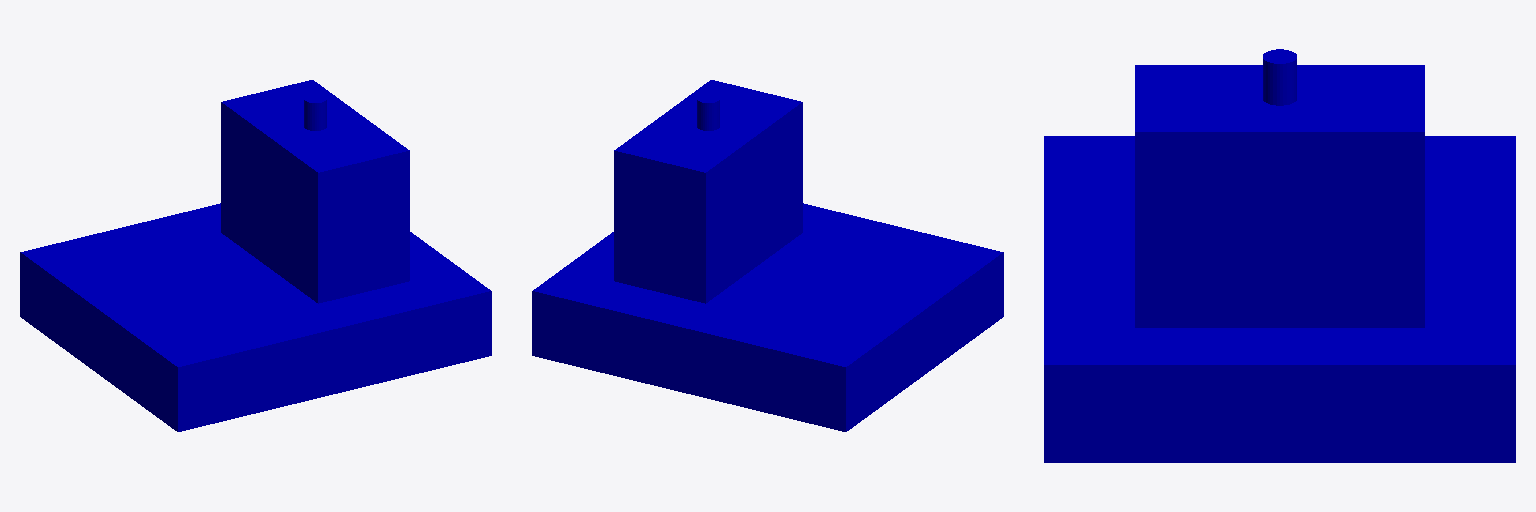
URDF robot description (Tracer):
<?xml version="1.0"?>
<robot name="Tracer">

  <material name="blue">
    <color rgba="0 0 0.8 1"/>
  </material>

  <link name="base_link">
    <inertial>
      <origin xyz="0 0 0.0995" rpy="0 0 0"/>
      <mass value="10"/>
      <inertia ixx="0.326184" ixy="0" ixz="0" iyy="0.426771" iyz="0" izz="0.720753"/>
    </inertial>
    <visual>
      <geometry>
        <box size="0.702 0.61 0.139"/>
      </geometry>
      <origin rpy="0 0 0" xyz="0 0 0.0995"/>
      <material name="blue"/>
    </visual>
    <collision>
      <geometry>
        <box size="0.702 0.61 0.139"/>
      </geometry>
      <origin rpy="0 0 0" xyz="0 0 0.0995"/>
    </collision>
  </link>

  <link name="right_wheel">
    <inertial>
      <origin xyz="0 0 0" rpy="0 1.57075 1.57075"/>
      <mass value="0.5"/>
      <inertia ixx="0.000379" ixy="0" ixz="0" iyy="0.000379" iyz="0" izz="0.000625"/>
    </inertial>
    <visual>
      <geometry>
        <cylinder length="0.04" radius="0.05"/>
      </geometry>
      <origin rpy="0 1.57075 1.57075" xyz="0 0 0"/>
      <material name="blue"/>
    </visual>
    <collision>
      <geometry>
        <cylinder length="0.04" radius="0.05"/>
      </geometry>
      <origin rpy="0 1.57075 1.57075" xyz="0 0 0"/>
    </collision>
  </link>

  <joint name="base_to_right_wheel" type="continuous">
    <parent link="base_link"/>
    <child link="right_wheel"/>
    <axis xyz="0 1 0"/>
    <origin xyz="0 -0.22 0.05"/>
  </joint>

  <link name="fr_caster_wheel">
    <inertial>
      <origin xyz="0 0 0" rpy="0 1.57075 1.57075"/>
      <mass value="0.2"/>
      <inertia ixx="0.00004625" ixy="0" ixz="0" iyy="0.00004625" iyz="0" izz="0.0000625"/>
    </inertial>
    <visual>
      <geometry>
        <cylinder length="0.03" radius="0.025"/>
      </geometry>
      <origin rpy="0 1.57075 1.57075" xyz="0 0 0"/>
      <material name="blue"/>
    </visual>
    <collision>
      <geometry>
        <cylinder length="0.03" radius="0.025"/>
      </geometry>
      <origin rpy="0 1.57075 1.57075" xyz="0 0 0"/>
    </collision>
  </link>

  <joint name="base_to_fr_caster_wheel" type="fixed">
    <parent link="base_link"/>
    <child link="fr_caster_wheel"/>
    <origin xyz="0.25 -0.22 0.025"/>
  </joint>

  <link name="br_caster_wheel">
    <inertial>
      <origin xyz="0 0 0" rpy="0 1.57075 1.57075"/>
      <mass value="0.2"/>
      <inertia ixx="0.00004625" ixy="0" ixz="0" iyy="0.00004625" iyz="0" izz="0.0000625"/>
    </inertial>
    <visual>
      <geometry>
        <cylinder length="0.03" radius="0.025"/>
      </geometry>
      <origin rpy="0 1.57075 1.57075" xyz="0 0 0"/>
      <material name="blue"/>
    </visual>
    <collision>
      <geometry>
        <cylinder length="0.03" radius="0.025"/>
      </geometry>
      <origin rpy="0 1.57075 1.57075" xyz="0 0 0"/>
    </collision>
  </link>

  <joint name="base_to_br_caster_wheel" type="fixed">
    <parent link="base_link"/>
    <child link="br_caster_wheel"/>
    <origin xyz="-0.25 -0.22 0.025"/>
  </joint>

  <link name="left_wheel">
    <inertial>
      <origin xyz="0 0 0" rpy="0 1.57075 1.57075"/>
      <mass value="0.5"/>
      <inertia ixx="0.000379" ixy="0" ixz="0" iyy="0.000379" iyz="0" izz="0.000625"/>
    </inertial>
    <visual>
      <geometry>
        <cylinder length="0.04" radius="0.05"/>
      </geometry>
      <origin rpy="0 1.57075 1.57075" xyz="0 0 0"/>
      <material name="blue"/>
    </visual>
    <collision>
      <geometry>
        <cylinder length="0.04" radius="0.05"/>
      </geometry>
      <origin rpy="0 1.57075 1.57075" xyz="0 0 0"/>
    </collision>
  </link>

  <joint name="base_to_left_wheel" type="continuous">
    <parent link="base_link"/>
    <child link="left_wheel"/>
    <axis xyz="0 1 0"/>
    <origin xyz="0 0.22 0.05"/>
  </joint>

  <link name="fl_caster_wheel">
    <inertial>
      <origin xyz="0 0 0" rpy="0 1.57075 1.57075"/>
      <mass value="0.2"/>
      <inertia ixx="0.00004625" ixy="0" ixz="0" iyy="0.00004625" iyz="0" izz="0.0000625"/>
    </inertial>
    <visual>
      <geometry>
        <cylinder length="0.03" radius="0.025"/>
      </geometry>
      <origin rpy="0 1.57075 1.57075" xyz="0 0 0"/>
      <material name="blue"/>
    </visual>
    <collision>
      <geometry>
        <cylinder length="0.03" radius="0.025"/>
      </geometry>
      <origin rpy="0 1.57075 1.57075" xyz="0 0 0"/>
    </collision>
  </link>

  <joint name="base_to_fl_caster_wheel" type="fixed">
    <parent link="base_link"/>
    <child link="fl_caster_wheel"/>
    <origin xyz="0.25 0.22 0.025"/>
  </joint>

  <link name="bl_caster_wheel">
    <inertial>
      <origin xyz="0 0 0" rpy="0 1.57075 1.57075"/>
      <mass value="0.2"/>
      <inertia ixx="0.00004625" ixy="0" ixz="0" iyy="0.00004625" iyz="0" izz="0.0000625"/>
    </inertial>
    <visual>
      <geometry>
        <cylinder length="0.03" radius="0.025"/>
      </geometry>
      <origin rpy="0 1.57075 1.57075" xyz="0 0 0"/>
      <material name="blue"/>
    </visual>
    <collision>
      <geometry>
        <cylinder length="0.03" radius="0.025"/>
      </geometry>
      <origin rpy="0 1.57075 1.57075" xyz="0 0 0"/>
    </collision>
  </link>

  <joint name="base_to_bl_caster_wheel" type="fixed">
    <parent link="base_link"/>
    <child link="bl_caster_wheel"/>
    <origin xyz="-0.25 0.22 0.025"/>
  </joint>

  <link name="battery">
    <inertial>
      <origin xyz="0 0 0" rpy="0 0 0"/>
      <mass value="5"/>
      <inertia ixx="0.091526" ixy="0" ixz="0" iyy="0.050152" iyz="0" izz="0.076387"/>
    </inertial>
    <visual>
      <geometry>
        <box size="0.204978 0.37592 0.279908"/>
      </geometry>
      <origin rpy="0 0 0" xyz="0 0 0"/>
      <material name="blue"/>
    </visual>
    <collision>
      <geometry>
        <box size="0.204978 0.37592 0.279908"/>
      </geometry>
      <origin rpy="0 0 0" xyz="0 0 0"/>
    </collision>
  </link>

  <joint name="base_to_battery" type="fixed">
    <parent link="base_link"/>
    <child link="battery"/>
    <origin xyz="0.133 0 0.308954"/>
  </joint>

  <link name="lidar_link">
    <inertial>
      <origin xyz="0 0 0" rpy="0 0 0"/>
      <mass value="0.1"/>
      <inertia ixx="0.00004226" ixy="0" ixz="0" iyy="0.00004226" iyz="0" izz="0.00002531"/>
    </inertial>
    <visual>
      <geometry>
        <cylinder length="0.0596" radius="0.0225"/>
      </geometry>
      <origin rpy="0 0 0" xyz="0 0 0"/>
      <material name="blue"/>
    </visual>
    <collision>
      <geometry>
        <cylinder length="0.0596" radius="0.0225"/>
      </geometry>
      <origin rpy="0 0 0" xyz="0 0 0"/>
    </collision>
  </link>

  <joint name="battery_to_lidar" type="fixed">
    <parent link="battery"/>
    <child link="lidar_link"/>
    <origin xyz="0 0 0.169754"/>
  </joint>


</robot>

--- Facts derived from the render (not from the file) ---
3 views of the same robot in one strip: view 1: azimuth 30°, elevation 25°; view 2: azimuth 150°, elevation 25°; view 3: azimuth 270°, elevation 25° (orthographic).
Robot: Tracer — 9 links, 8 joints (2 continuous, 6 fixed); root link base_link; default pose: every joint at zero.
Links seen in each view (by area): view 1: base_link, battery, lidar_link; view 2: base_link, battery, lidar_link; view 3: base_link, battery, lidar_link.
Link boxes in pixels (x1,y1,x2,y2): base_link: (20, 203, 491, 431); battery: (221, 80, 409, 303); lidar_link: (304, 93, 326, 130); base_link: (532, 203, 1003, 431); battery: (614, 80, 802, 303); lidar_link: (697, 93, 719, 130); base_link: (1044, 136, 1515, 462); battery: (1135, 65, 1424, 327); lidar_link: (1263, 49, 1296, 105).
Bounding box of the posed robot: 0.702 × 0.61 × 0.5085 m (x, y, z).
Geometry: primitives only (box / cylinder / sphere), no mesh files.
